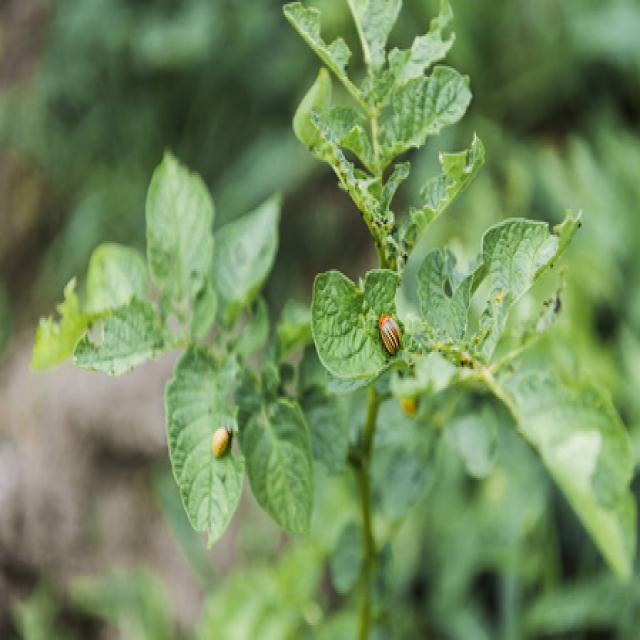ShuCaiHuaBanChong-Grown-: (373, 298, 408, 363)
